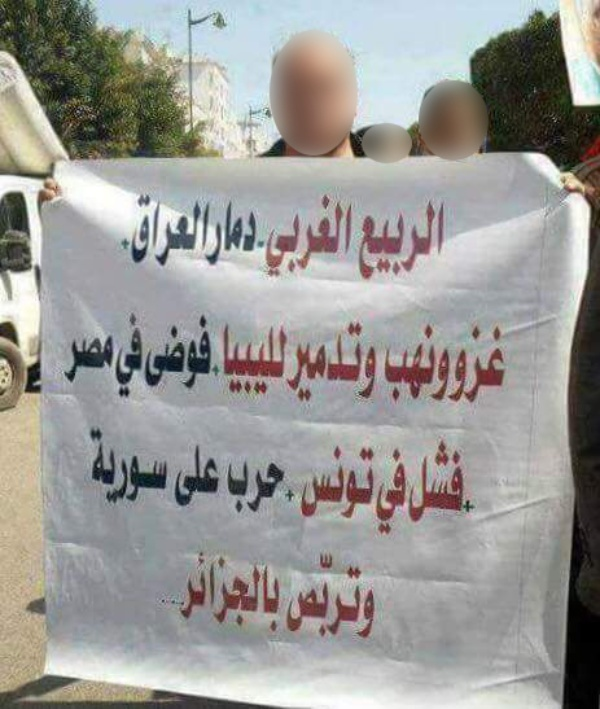text: (305, 546, 320, 641), (321, 546, 336, 641), (337, 546, 352, 641), (353, 546, 368, 641), (417, 432, 432, 524), (433, 432, 448, 524), (449, 432, 464, 524), (273, 191, 288, 279), (289, 191, 304, 279), (305, 191, 320, 279), (321, 191, 336, 279), (337, 191, 352, 279), (385, 448, 400, 535), (161, 546, 176, 633), (177, 546, 192, 633), (193, 546, 208, 633), (209, 546, 224, 633), (225, 546, 240, 633), (241, 546, 256, 633), (257, 546, 272, 633), (129, 312, 144, 398), (353, 321, 369, 401), (369, 199, 384, 283), (385, 199, 400, 283), (401, 199, 416, 283), (417, 199, 432, 283), (465, 323, 480, 406), (481, 323, 496, 406), (401, 322, 416, 404), (417, 322, 432, 404), (305, 321, 320, 401), (321, 321, 336, 401), (337, 321, 352, 401), (321, 444, 336, 523), (337, 444, 352, 523), (353, 444, 368, 523), (97, 426, 112, 505), (113, 426, 128, 505), (129, 426, 144, 505), (145, 426, 160, 505), (273, 323, 289, 397), (273, 546, 286, 633), (161, 315, 176, 389), (177, 315, 192, 389), (193, 315, 208, 389), (145, 194, 160, 268), (161, 194, 176, 268), (177, 194, 192, 268), (193, 194, 208, 268), (225, 323, 240, 397), (241, 323, 256, 397), (257, 323, 272, 397), (497, 323, 510, 406), (387, 322, 400, 404), (225, 198, 240, 266), (241, 198, 256, 266), (465, 432, 476, 524), (433, 199, 445, 283), (241, 457, 256, 523), (257, 457, 272, 523), (273, 457, 288, 523), (177, 444, 192, 509), (193, 444, 208, 509), (369, 546, 379, 641), (209, 444, 223, 509), (209, 315, 221, 389), (309, 444, 320, 523), (369, 444, 380, 523), (161, 426, 172, 505), (81, 334, 96, 385), (97, 334, 112, 385), (229, 457, 240, 523), (289, 457, 300, 523), (401, 448, 409, 535), (151, 315, 160, 389), (433, 322, 441, 404), (296, 321, 304, 401), (68, 334, 80, 385), (369, 344, 378, 405), (137, 194, 144, 268), (449, 345, 457, 405), (217, 198, 224, 266), (299, 546, 304, 641), (90, 426, 96, 505), (442, 345, 448, 405), (124, 312, 128, 398), (413, 432, 416, 524), (257, 198, 261, 266), (157, 546, 160, 633), (365, 199, 368, 283), (209, 194, 212, 268), (270, 191, 272, 279), (257, 239, 272, 249), (113, 334, 115, 385), (353, 191, 354, 279), (383, 448, 384, 535), (145, 312, 146, 398), (463, 323, 464, 406), (223, 323, 224, 397), (175, 444, 176, 509), (367, 344, 368, 405)
